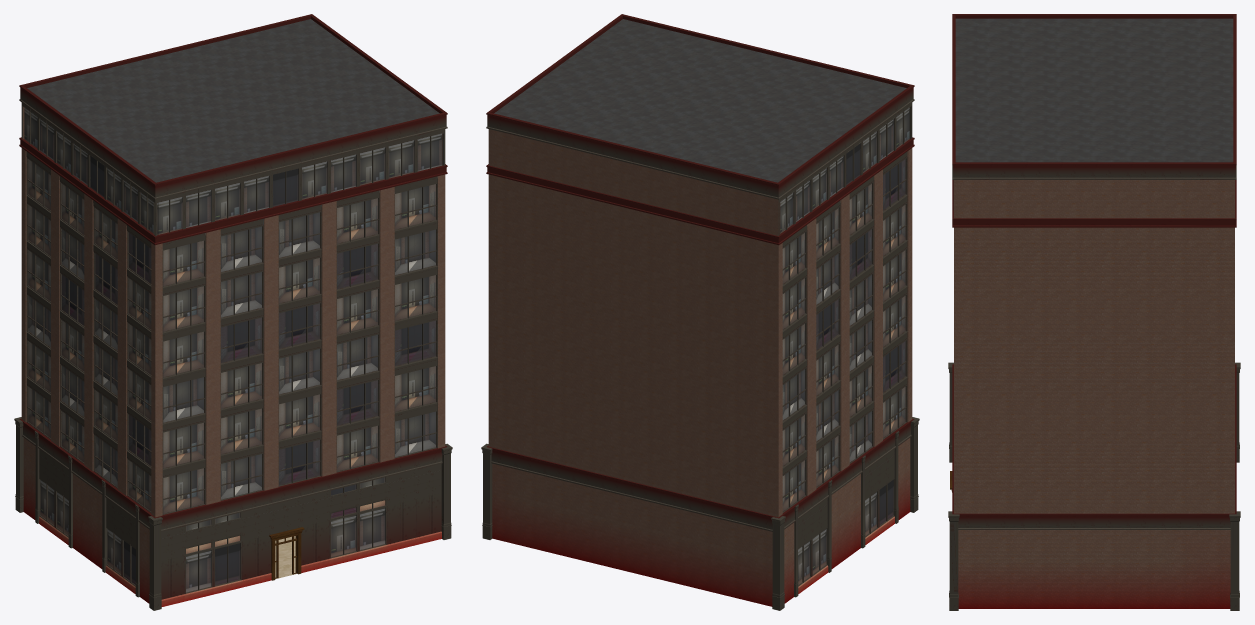
The model's file is causeway-point-mall_lod1.glb.
3 views of the same model, side by side, from view 1: azimuth 30°, elevation 25°; view 2: azimuth 150°, elevation 25°; view 3: azimuth 270°, elevation 25° (orthographic). The views are drawn at different scales.
Size of the model in its own units: 20.64 by 28 by 16.64.
9 materials, 8 textured.
